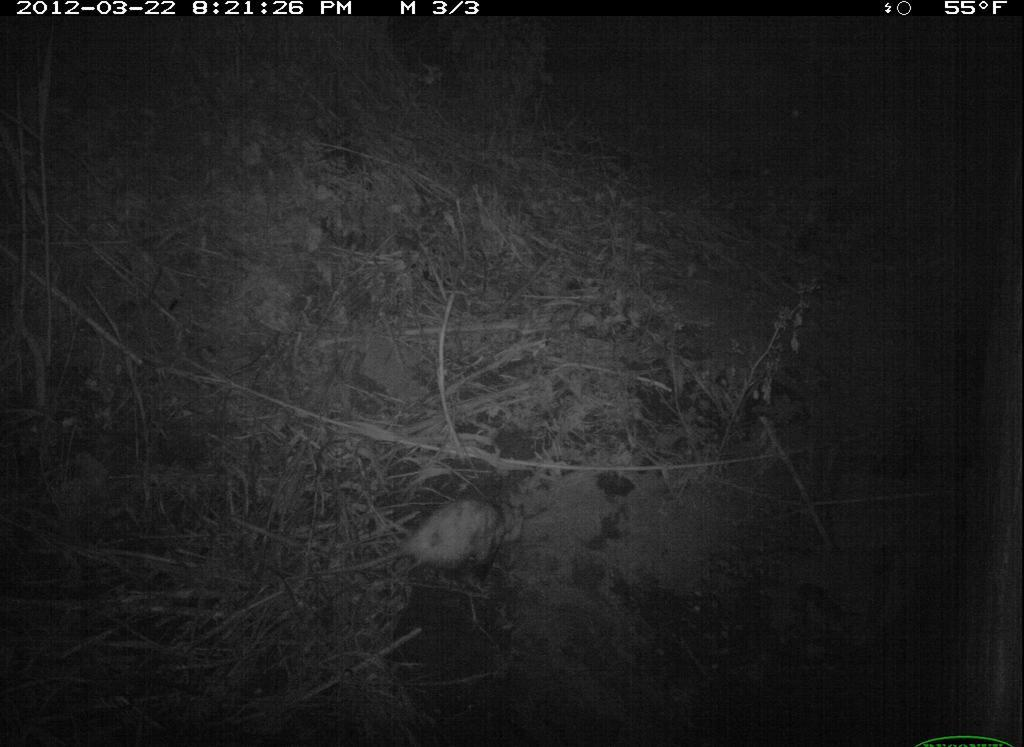opossum: (336, 482, 533, 603)
